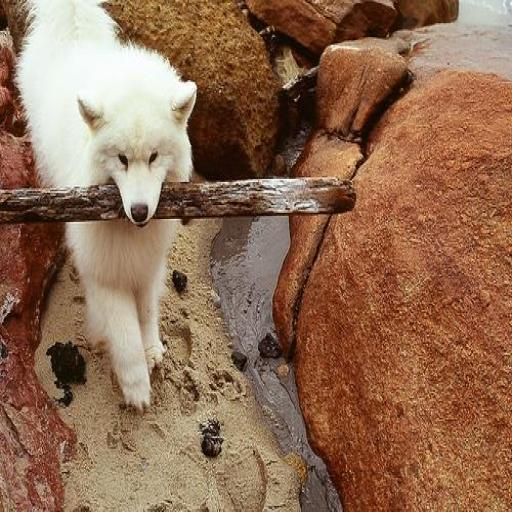dog_face: (78, 76, 196, 230)
